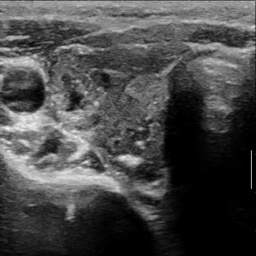mass: (47, 47, 171, 178)
